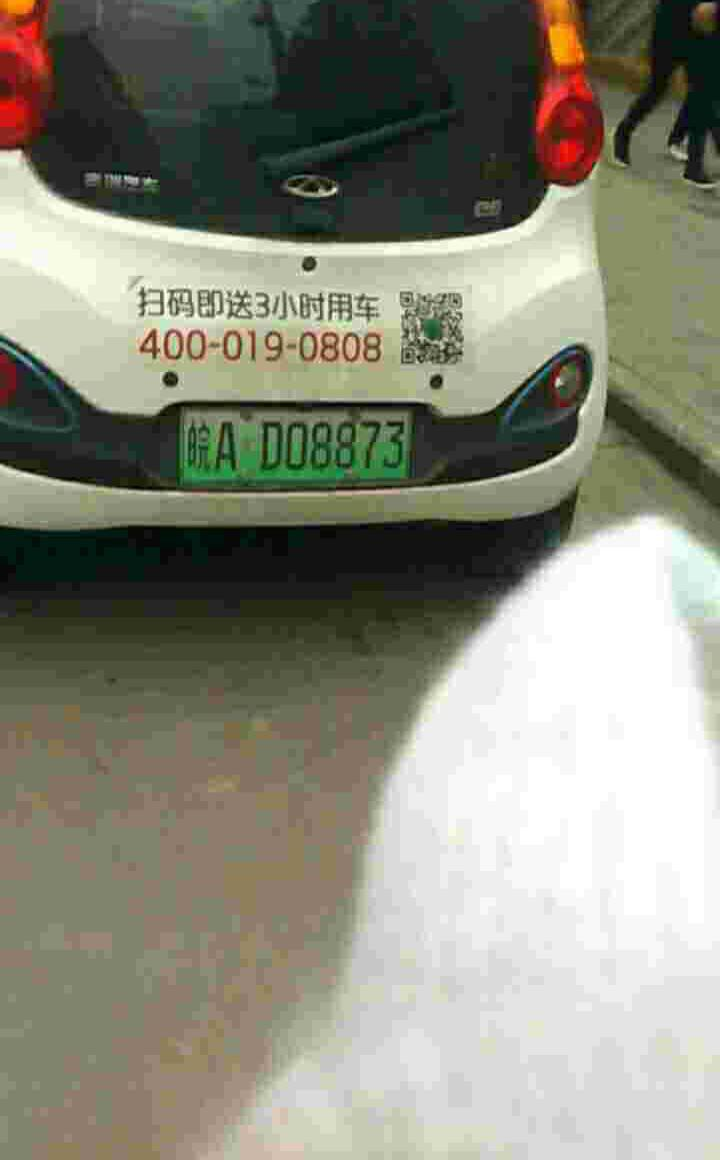car: (179, 402, 421, 484)
